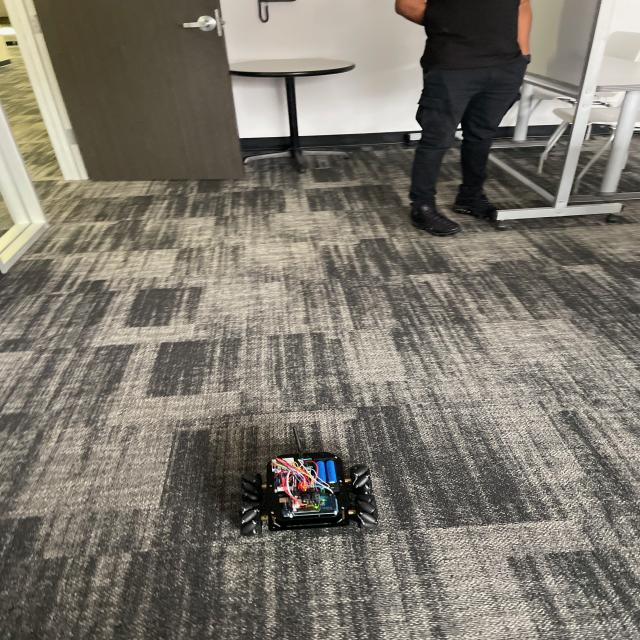ArduinoCar: (233, 452, 378, 538)
